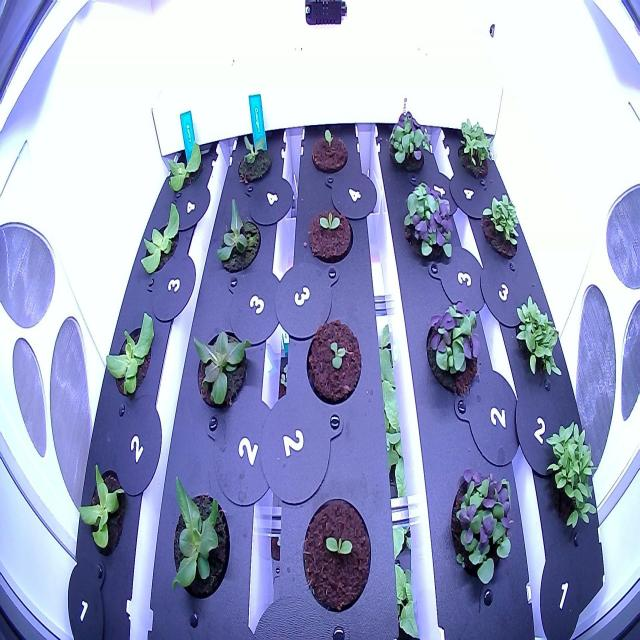germination: (296, 484, 376, 619), (300, 300, 365, 417), (306, 202, 358, 266), (307, 119, 352, 186)
young: (162, 464, 234, 616), (186, 315, 257, 421), (100, 304, 160, 413), (74, 456, 134, 560), (133, 194, 194, 287), (210, 190, 264, 281), (158, 131, 210, 208), (230, 121, 278, 195)
